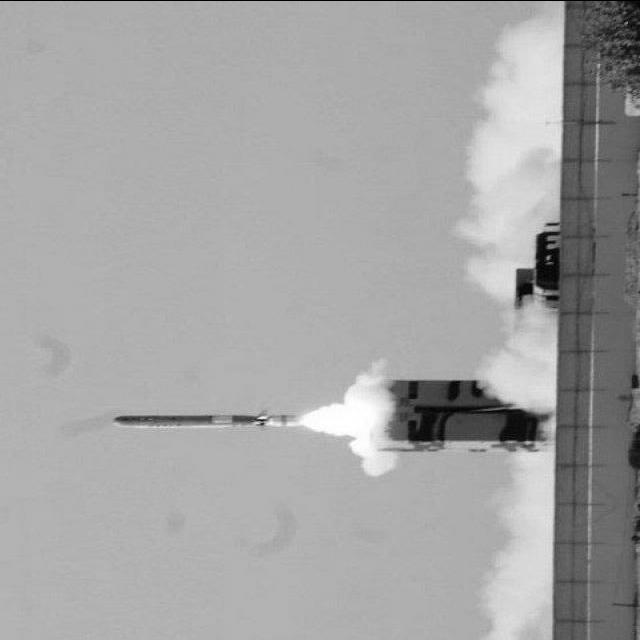missile: (97, 406, 283, 433)
